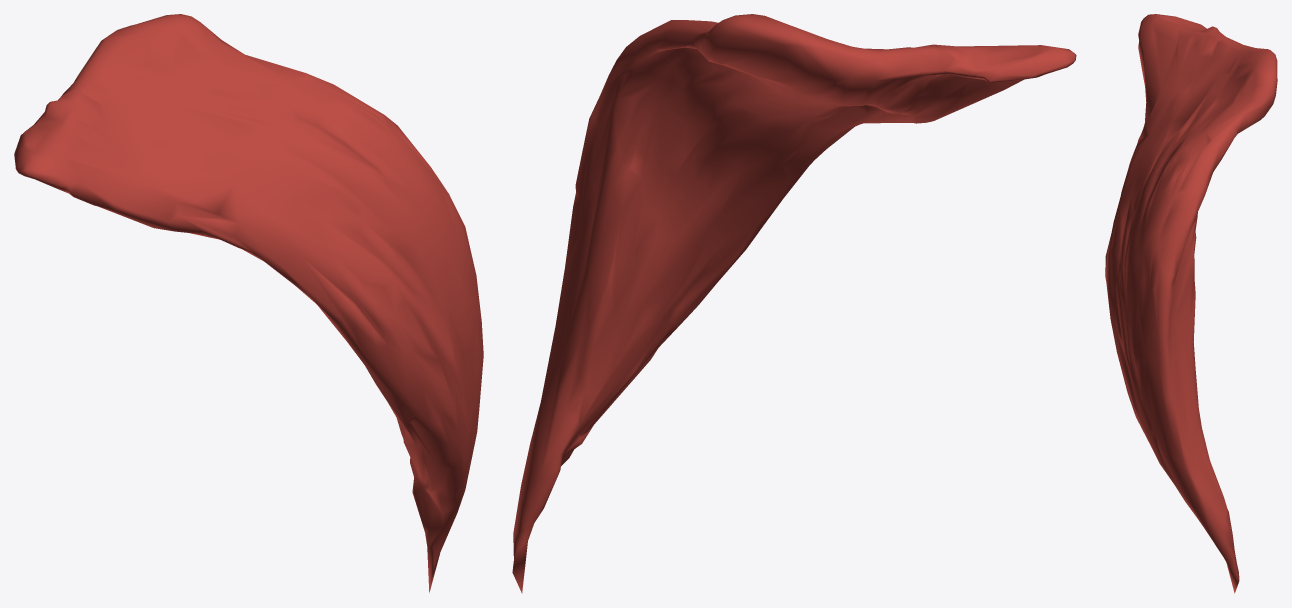
Rendered from musculos-clavicular-part-of-deltoid-muscle-l.glb.
3 views of the same model, side by side, from view 1: azimuth 30°, elevation 25°; view 2: azimuth 150°, elevation 25°; view 3: azimuth 270°, elevation 25° (orthographic). The views are drawn at different scales.
Visible parts, largest first — view 1: Clavicular part of deltoid muscle.l; view 2: Clavicular part of deltoid muscle.l; view 3: Clavicular part of deltoid muscle.l.
Boxes of the visible parts, x1,y1,x2,y2 form: Clavicular part of deltoid muscle.l: [14, 14, 483, 592]; Clavicular part of deltoid muscle.l: [512, 14, 1076, 593]; Clavicular part of deltoid muscle.l: [1105, 14, 1277, 593].
Size of the model in its own units: 0.126 by 0.1555 by 0.0546.
